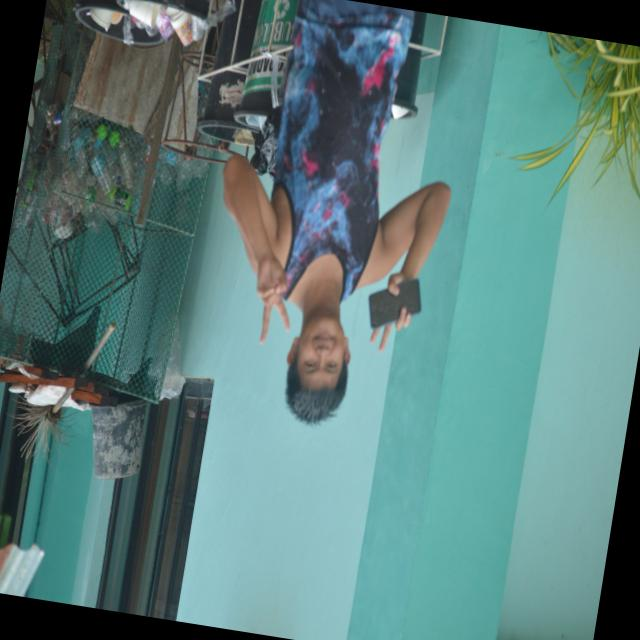person: (222, 0, 450, 423)
